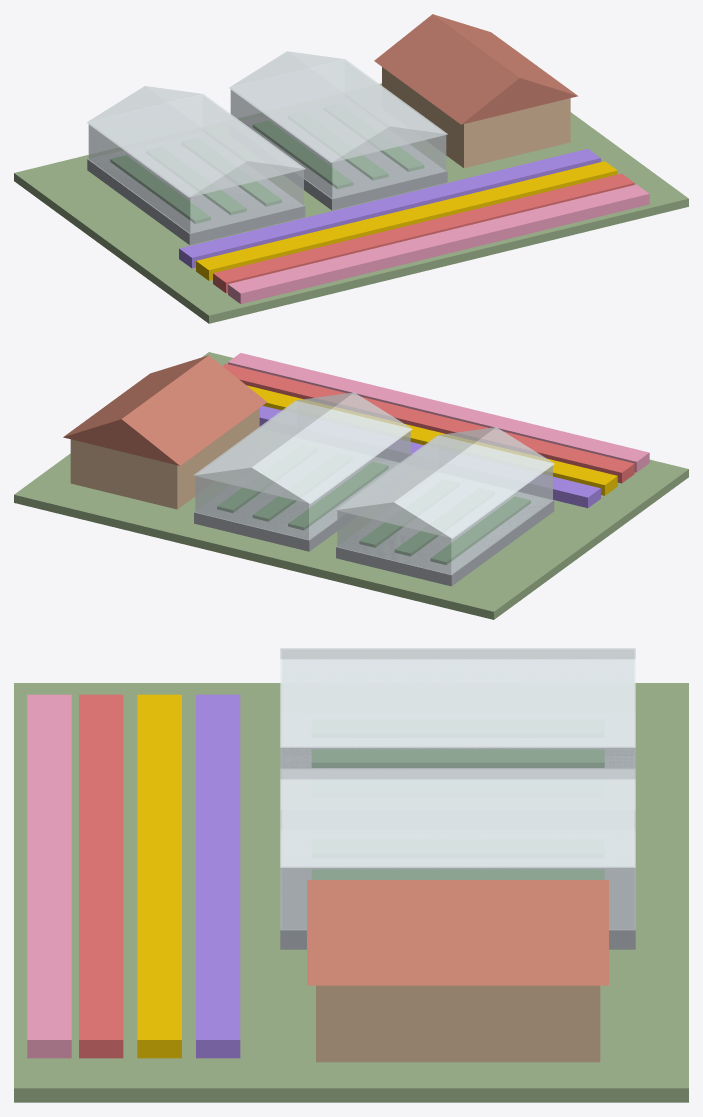
The model's file is lm_42_puppy_farm_cam_ly_glasshouse_and_flower_hill.glb.
The picture shows the model from 3 angles, top to bottom: view 1: azimuth 30°, elevation 25°; view 2: azimuth 150°, elevation 25°; view 3: azimuth 270°, elevation 25°; orthographic projection. The views are drawn at different scales.
Visible parts, largest first — view 1: lm_42_puppy_farm_cam_ly_glasshouse_and_flower_hill; view 2: lm_42_puppy_farm_cam_ly_glasshouse_and_flower_hill; view 3: lm_42_puppy_farm_cam_ly_glasshouse_and_flower_hill.
Part boxes in pixels (x1,y1,x2,y2): lm_42_puppy_farm_cam_ly_glasshouse_and_flower_hill: [14, 14, 688, 323]; lm_42_puppy_farm_cam_ly_glasshouse_and_flower_hill: [14, 352, 688, 619]; lm_42_puppy_farm_cam_ly_glasshouse_and_flower_hill: [14, 648, 688, 1102].
Size of the model in its own units: 54 by 9.4 by 38.
